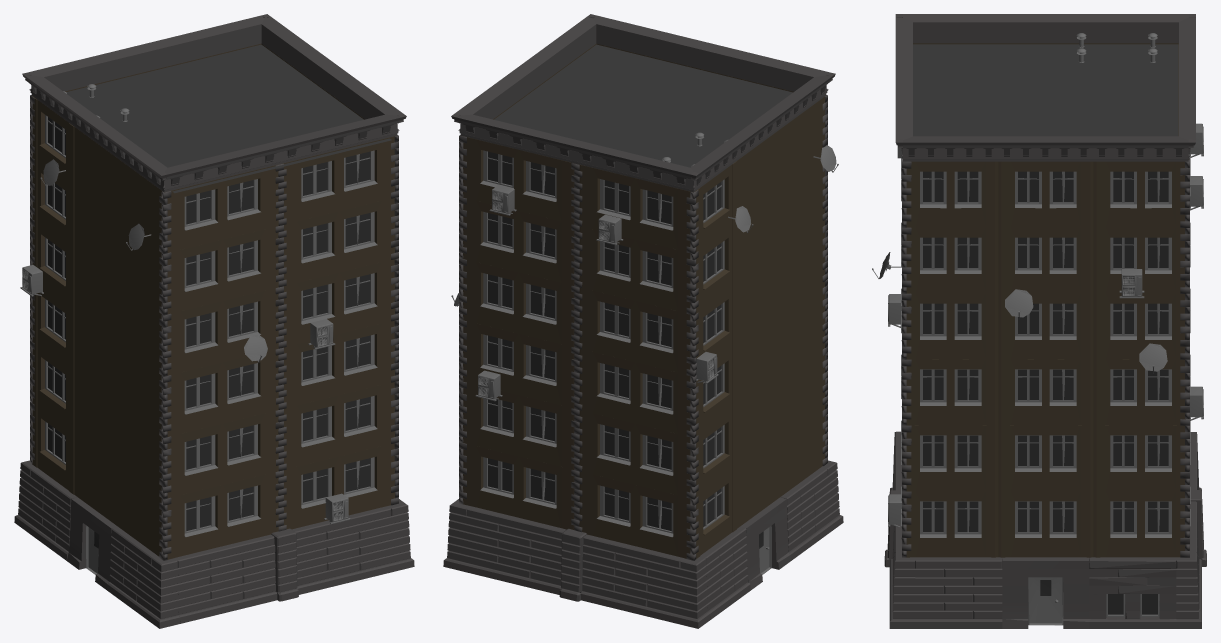
The picture shows the model from 3 angles, left to right: view 1: azimuth 30°, elevation 25°; view 2: azimuth 150°, elevation 25°; view 3: azimuth 270°, elevation 25°; orthographic projection. The views are drawn at different scales.
Visible parts, largest first — view 1: Plane.005, middle_floor_wall_02.213, middle_floor_wall_02.216, middle_floor_wall_02.212, middle_floor_wall_02.195, middle_floor_wall_02.198, ground_floor_wall_02.050, middle_floor_wall_02.214, middle_floor_wall_02.217, middle_floor_wall_02.199, middle_floor_wall_02.196, ground_floor_wall_02.047 (+51 smaller); view 2: Plane.005, middle_floor_wall_02.209, middle_floor_wall_02.203, middle_floor_wall_02.207, middle_floor_wall_02.208, middle_floor_wall_02.206, middle_floor_wall_02.200, ground_floor_wall_02.049, middle_floor_wall_02.204, ground_floor_wall_02.048, middle_floor_wall_02.210, middle_floor_wall_02.201 (+54 smaller); view 3: Plane.005, middle_floor_wall_02.177, middle_floor_wall_02.180, middle_floor_wall_02.183, middle_floor_wall_02.192, middle_floor_wall_02.189, ground_floor_wall_03.013, ground_floor_wall_02.046, ground_floor_wall_01.017, middle_floor_wall_02.185, middle_floor_wall_02.188, middle_floor_wall_02.176 (+40 smaller).
Part boxes in pixels (left/top/right/bottom): Plane.005: left=66, top=44, right=391, bottom=193; middle_floor_wall_02.213: left=167, top=411, right=278, bottom=498; middle_floor_wall_02.216: left=167, top=227, right=278, bottom=314; middle_floor_wall_02.212: left=167, top=472, right=278, bottom=559; middle_floor_wall_02.195: left=283, top=382, right=394, bottom=469; middle_floor_wall_02.198: left=283, top=198, right=394, bottom=285; ground_floor_wall_02.050: left=174, top=534, right=277, bottom=623; middle_floor_wall_02.214: left=167, top=349, right=278, bottom=436; middle_floor_wall_02.217: left=165, top=164, right=280, bottom=252; middle_floor_wall_02.199: left=282, top=136, right=394, bottom=223; middle_floor_wall_02.196: left=283, top=320, right=394, bottom=407; ground_floor_wall_02.047: left=292, top=506, right=393, bottom=594; Plane.005: left=494, top=44, right=792, bottom=167; middle_floor_wall_02.209: left=579, top=288, right=690, bottom=374; middle_floor_wall_02.203: left=463, top=260, right=574, bottom=347; middle_floor_wall_02.207: left=579, top=410, right=690, bottom=497; middle_floor_wall_02.208: left=579, top=349, right=690, bottom=435; middle_floor_wall_02.206: left=579, top=472, right=690, bottom=558; middle_floor_wall_02.200: left=463, top=444, right=574, bottom=529; ground_floor_wall_02.049: left=581, top=534, right=683, bottom=623; middle_floor_wall_02.204: left=463, top=198, right=574, bottom=285; ground_floor_wall_02.048: left=464, top=506, right=566, bottom=594; middle_floor_wall_02.210: left=579, top=226, right=690, bottom=313; middle_floor_wall_02.201: left=463, top=382, right=574, bottom=469; Plane.005: left=897, top=44, right=1178, bottom=158; middle_floor_wall_02.177: left=998, top=491, right=1093, bottom=557; middle_floor_wall_02.180: left=998, top=425, right=1093, bottom=491; middle_floor_wall_02.183: left=998, top=359, right=1093, bottom=425; middle_floor_wall_02.192: left=998, top=161, right=1093, bottom=227; middle_floor_wall_02.189: left=998, top=227, right=1093, bottom=293; ground_floor_wall_03.013: left=1089, top=557, right=1176, bottom=628; ground_floor_wall_02.046: left=915, top=557, right=1002, bottom=628; ground_floor_wall_01.017: left=1002, top=557, right=1089, bottom=628; middle_floor_wall_02.185: left=906, top=293, right=998, bottom=359; middle_floor_wall_02.188: left=906, top=227, right=998, bottom=293; middle_floor_wall_02.176: left=906, top=491, right=998, bottom=557.
Bounding box in the file's own units: 1465 × 2221 × 1394.
